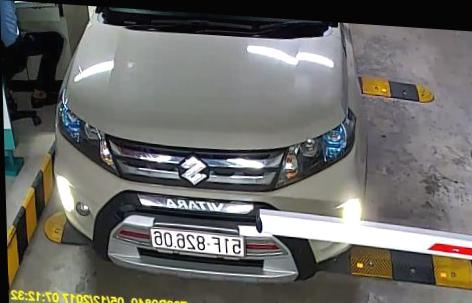License_Plate: (148, 220, 253, 264)
